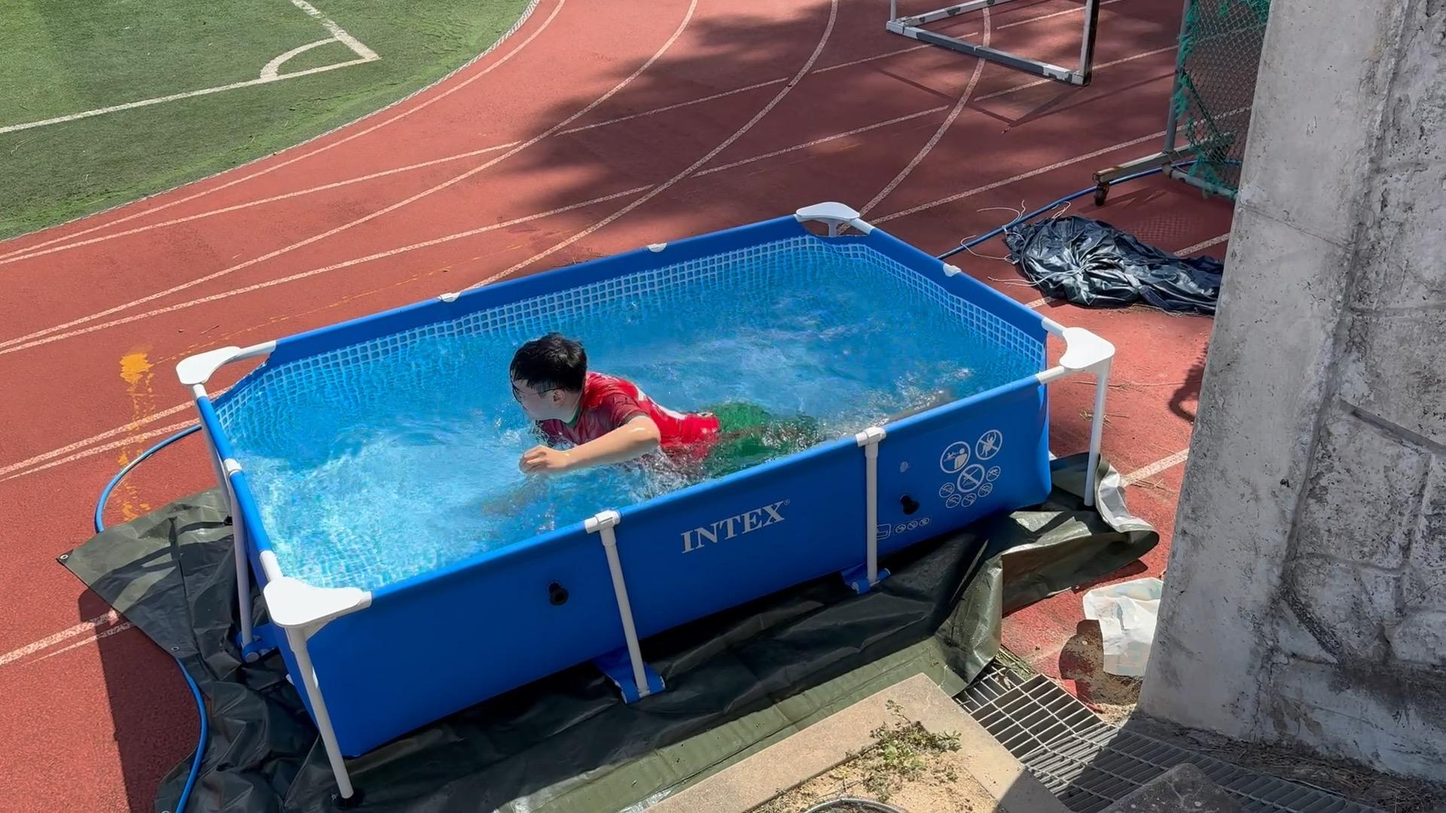Swimming: (433, 292, 967, 496)
